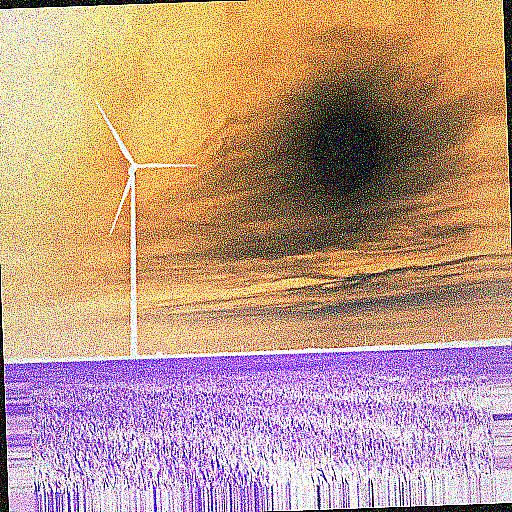wind turbine: (91, 96, 198, 352)
